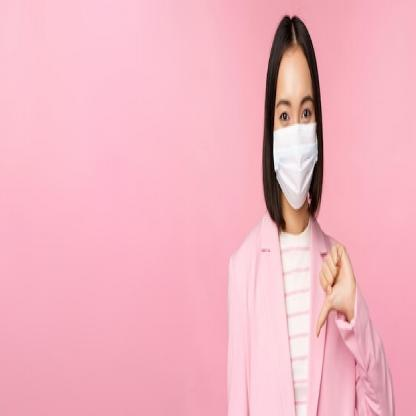thumb_down: (314, 234, 358, 346)
